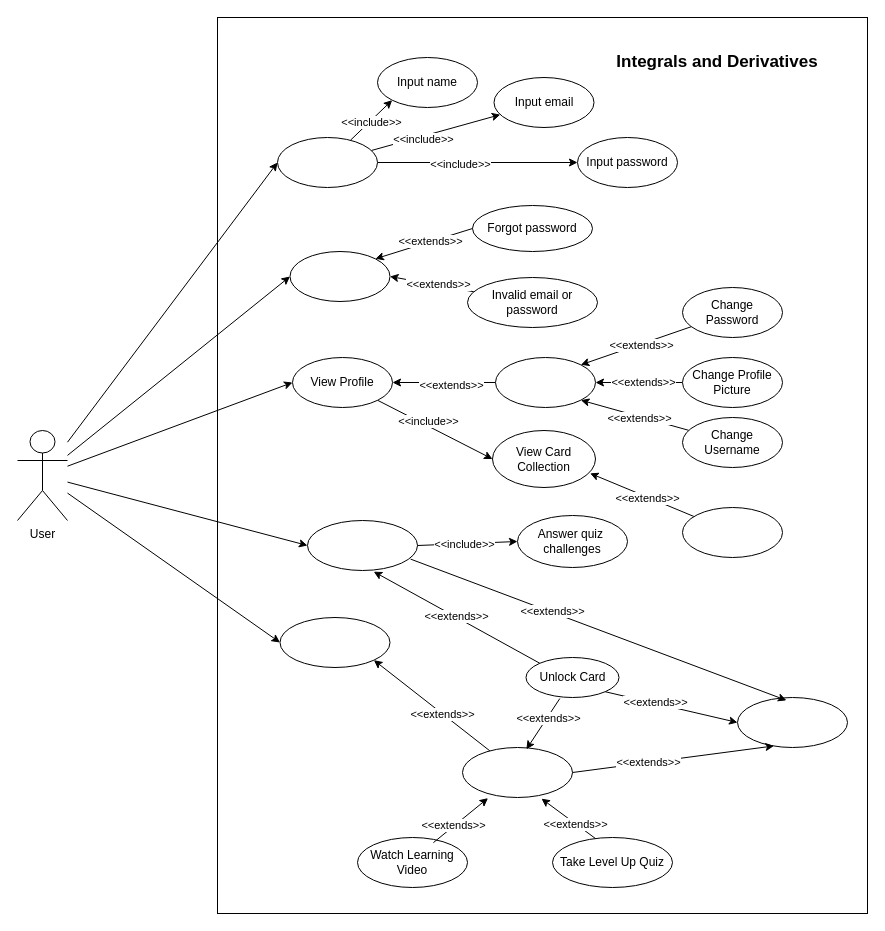
The diagram is 885 pixels wide and 931 high, and some of its shapes have lost their labels. The centre of each missing label's shape, as x and y in pixels:
Edit Profile: the point at 545,382
Learning Modules: the point at 517,772
Log In: the point at 339,276
Play Game: the point at 362,545
Record Progress to Database: the point at 792,722
Sign Up New User: the point at 327,162
View Card Info: the point at 732,532
View Materials: the point at 334,642
